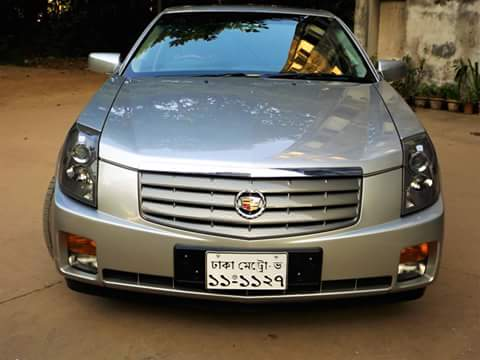registration_plate: (204, 251, 287, 291)
